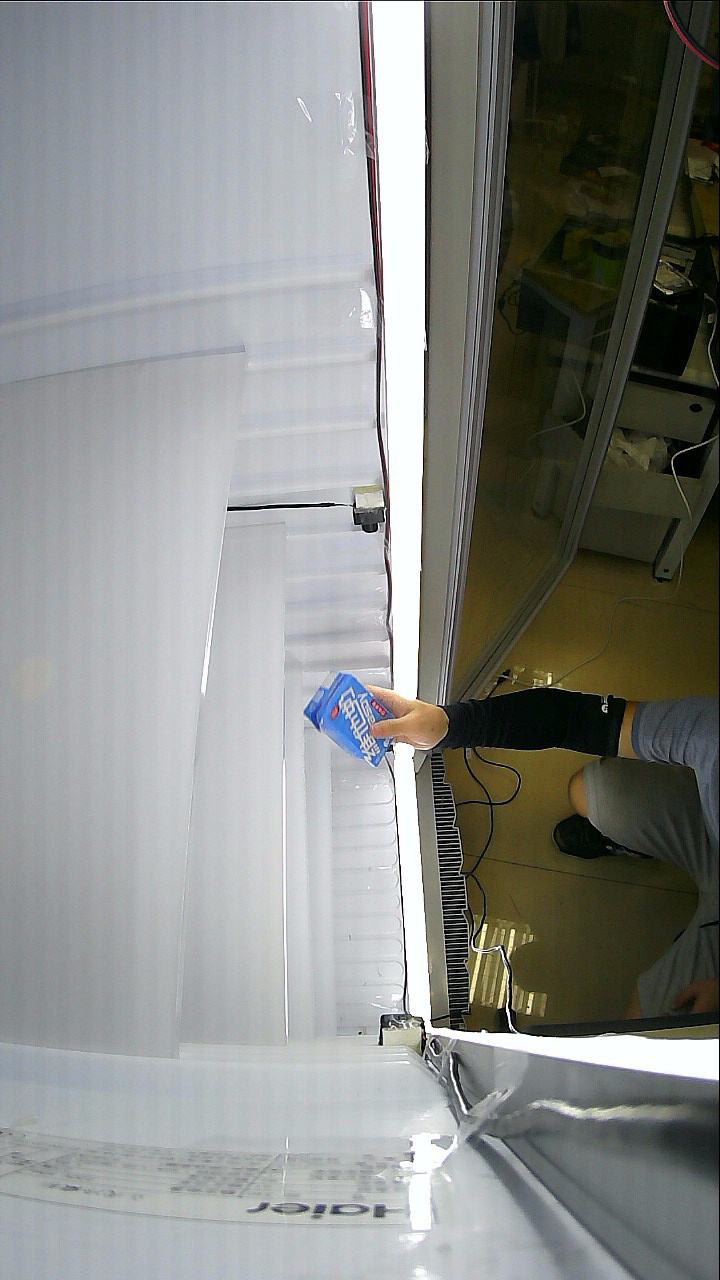VitaSoyOriginal: (309, 677, 490, 767)
